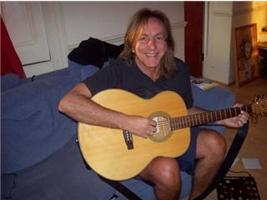person: (58, 9, 248, 200)
